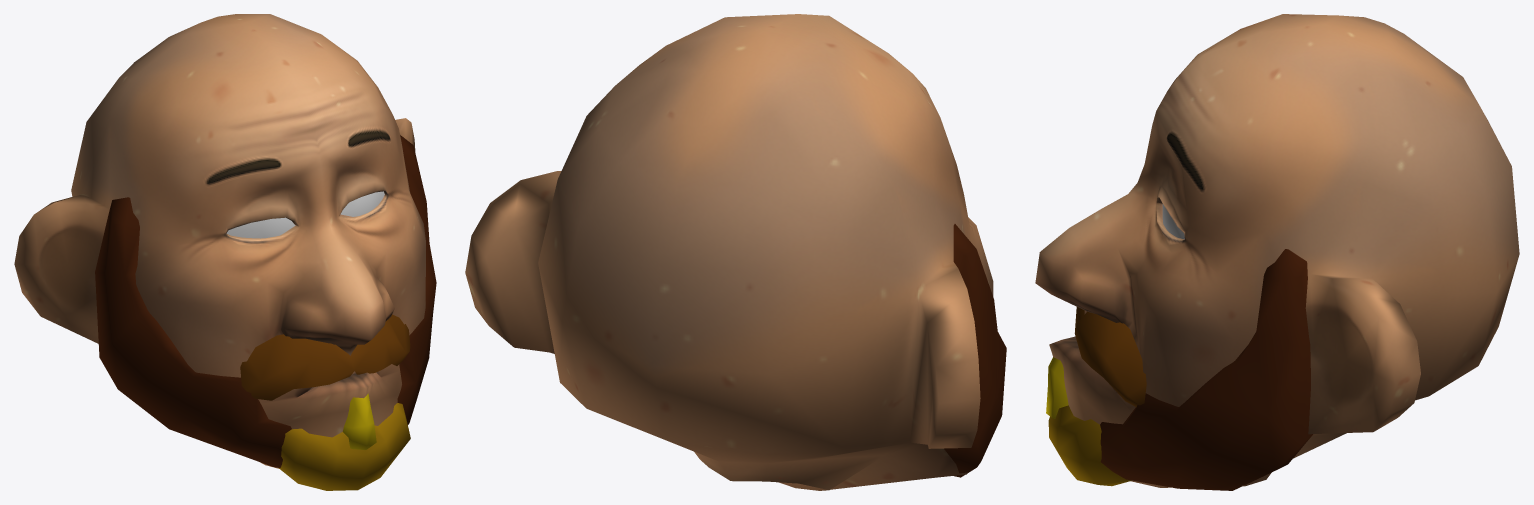
File: E_pose14.fbx
3 renders of one model, left to right at view 1: azimuth 30°, elevation 25°; view 2: azimuth 150°, elevation 25°; view 3: azimuth 270°, elevation 25°, orthographic. The views are drawn at different scales.
Parts seen in each view (by area): view 1: HEAD, BEARD; view 2: HEAD, BEARD; view 3: HEAD, BEARD.
Part boxes in pixels (bbox=[...]): HEAD: bbox=[14, 14, 425, 468]; BEARD: bbox=[95, 135, 436, 490]; HEAD: bbox=[465, 14, 993, 490]; BEARD: bbox=[944, 224, 1006, 477]; HEAD: bbox=[1035, 14, 1519, 487]; BEARD: bbox=[1046, 249, 1312, 490].
Size of the model in its own units: 27.45 by 25.55 by 24.9.
